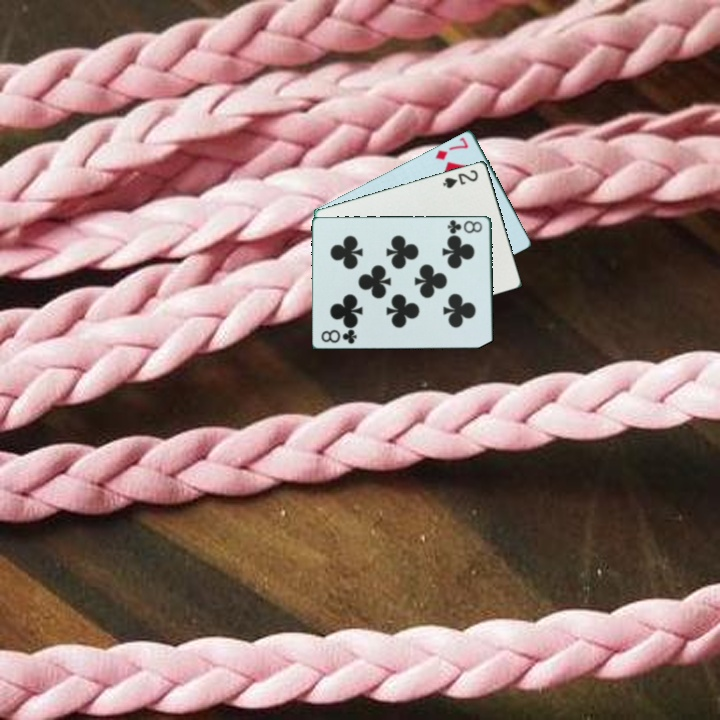2s: (439, 166, 481, 191)
7d: (432, 133, 471, 163)
8c: (444, 216, 485, 237), (318, 327, 360, 347)
